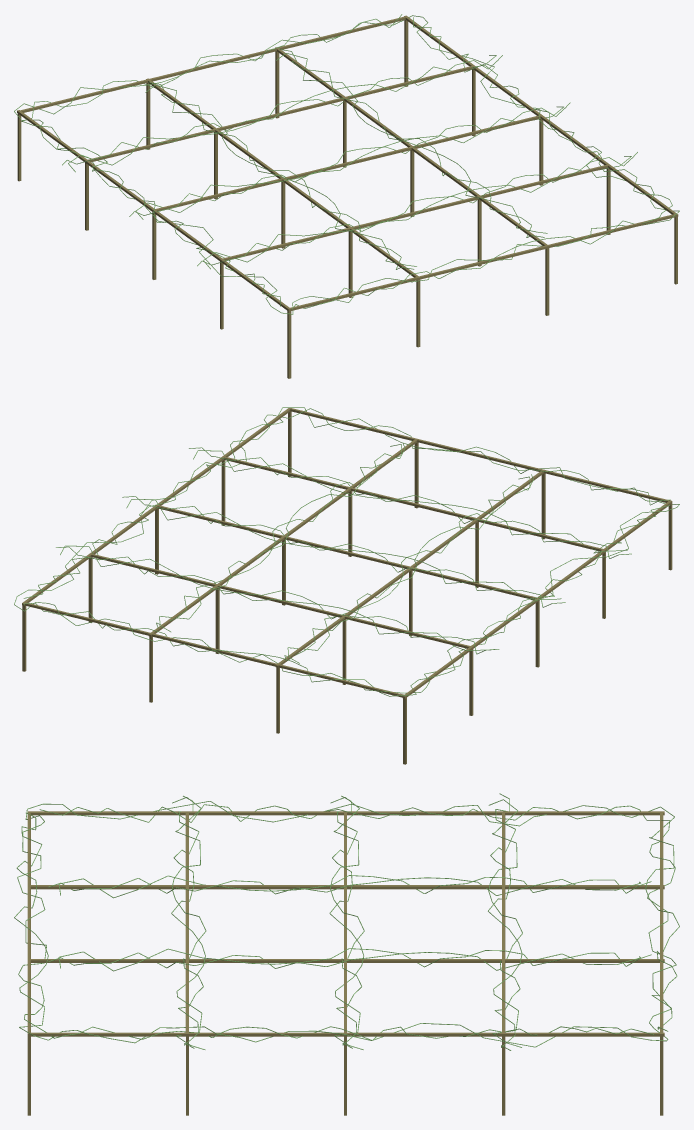
Rendered from grapeplant.fbx.
3 views of the same model, one above another, from view 1: azimuth 30°, elevation 25°; view 2: azimuth 150°, elevation 25°; view 3: azimuth 270°, elevation 25° (orthographic). The views are drawn at different scales.
Parts seen in each view (by area): view 1: Cube.002; view 2: Cube.002; view 3: Cube.002.
Boxes of the visible parts, x1=… form: Cube.002: x1=14, y1=14, x2=679, y2=378; Cube.002: x1=14, y1=407, x2=679, y2=764; Cube.002: x1=14, y1=793, x2=679, y2=1115.
Size of the model in its own units: 9.61 by 1.57 by 10.61.
